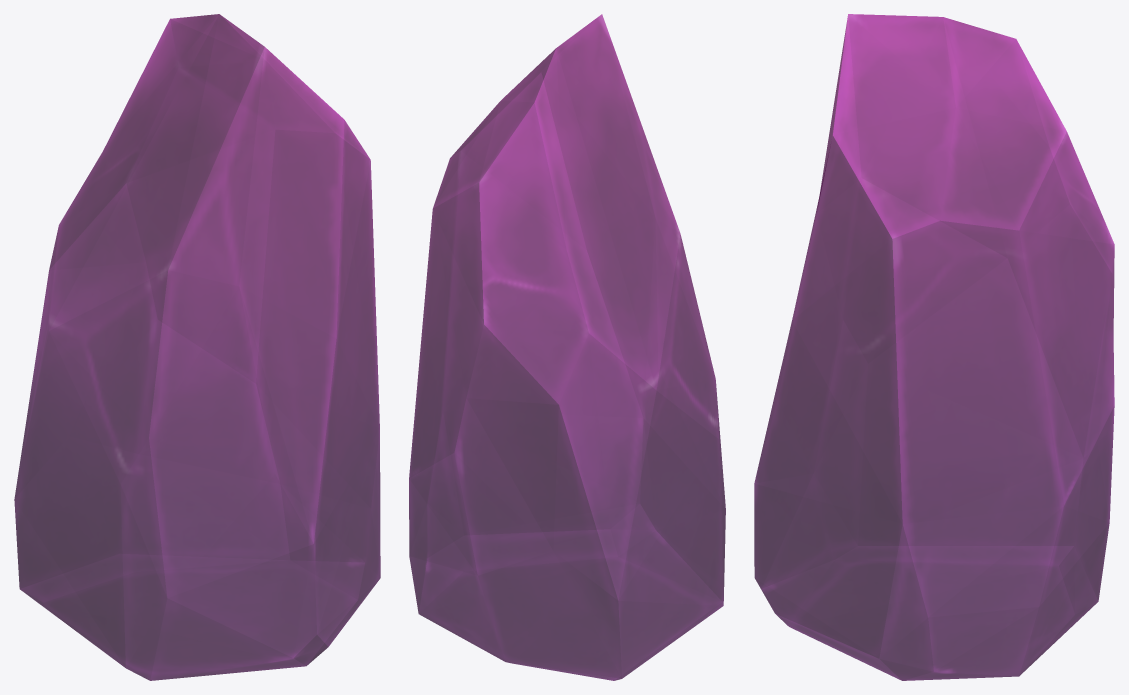
The model's file is crystal1.obj.
The picture shows the model from 3 angles, left to right: view 1: azimuth 30°, elevation 25°; view 2: azimuth 150°, elevation 25°; view 3: azimuth 270°, elevation 25°; orthographic projection. The views are drawn at different scales.
Parts seen in each view (by area): view 1: gem.001; view 2: gem.001; view 3: gem.001.
Part boxes in pixels (x1,y1,x2,y2): gem.001: (14, 14, 380, 680); gem.001: (409, 14, 725, 680); gem.001: (754, 14, 1114, 680).
Bounding box in the file's own units: 0.1741 × 0.3552 × 0.1903.
Materials: 1 (1 with a texture image).
